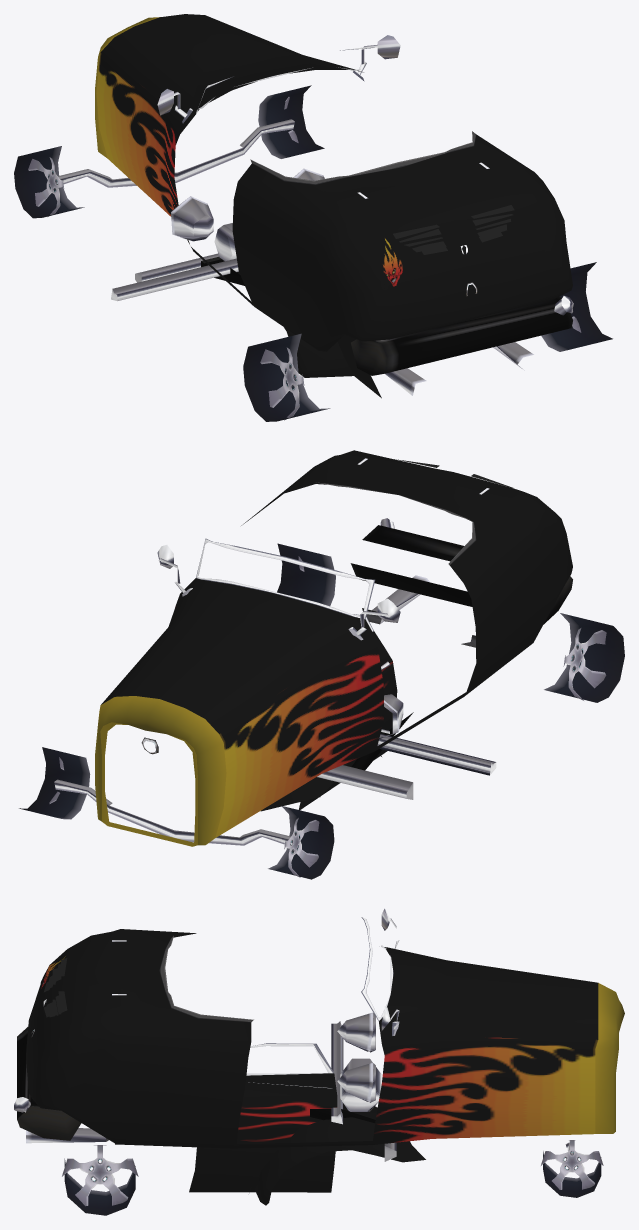
File: car-SUPR_Car13.glb
The picture shows the model from 3 angles, top to bottom: view 1: azimuth 30°, elevation 25°; view 2: azimuth 150°, elevation 25°; view 3: azimuth 270°, elevation 25°; orthographic projection. The views are drawn at different scales.
Parts seen in each view (by area): view 1: SUPR_Car13; view 2: SUPR_Car13; view 3: SUPR_Car13.
Boxes of the visible parts, box(x1,y1,x2,y2) form: SUPR_Car13: box(14, 14, 612, 421); SUPR_Car13: box(19, 450, 624, 879); SUPR_Car13: box(14, 908, 624, 1215).
Bounding box in the file's own units: 2.34 × 1.68 × 3.77.
19 materials, 19 textured.
